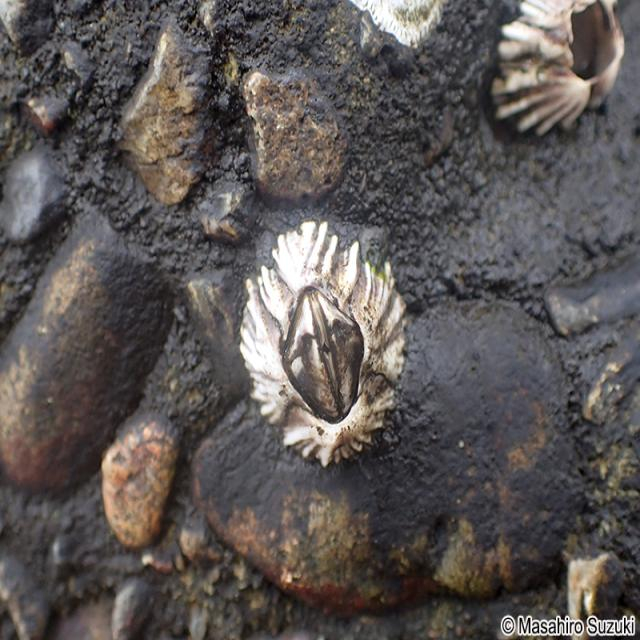barnacles: (244, 215, 409, 478), (474, 0, 638, 142)
